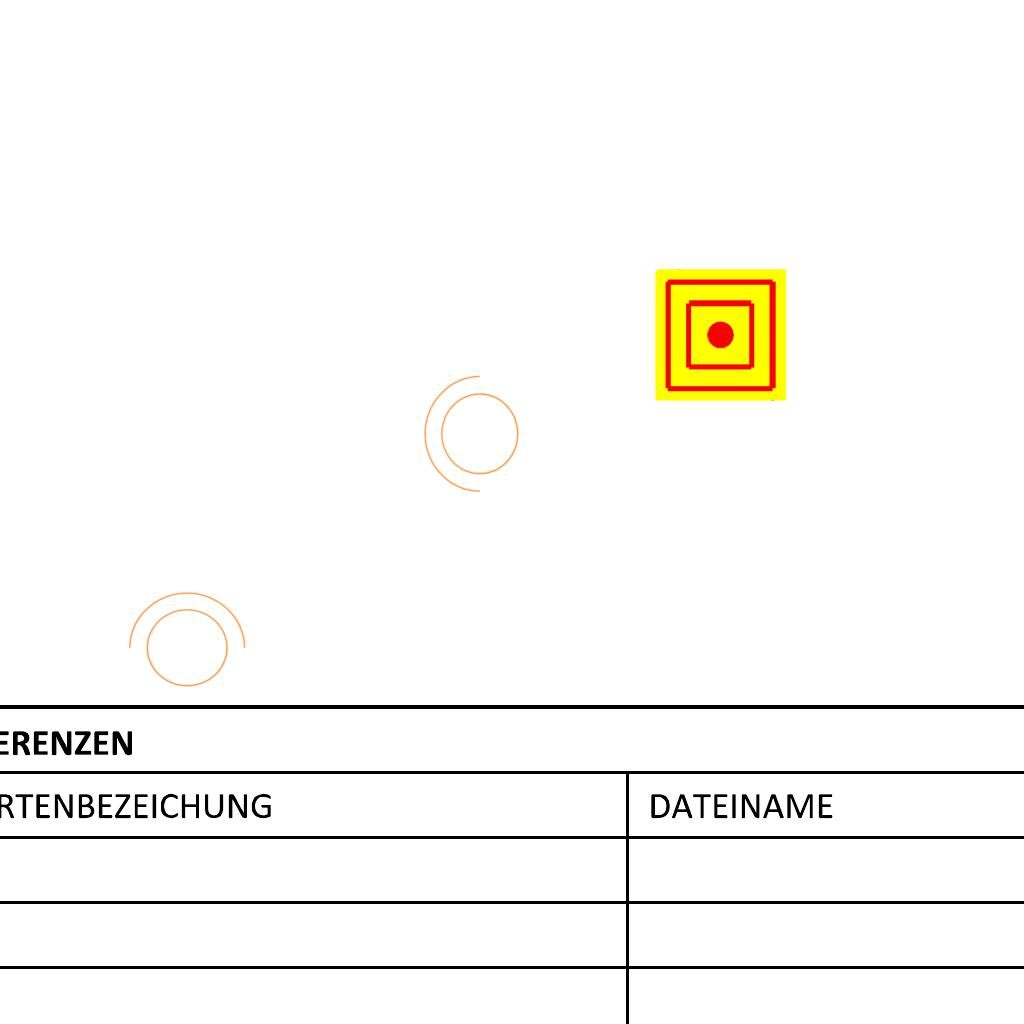NAM-Nichtautomatischer_Melder: (655, 269, 787, 401)
Scheinwerfer_fuer_Alarmbeleuchtung: (419, 371, 531, 503), (118, 587, 250, 699)
